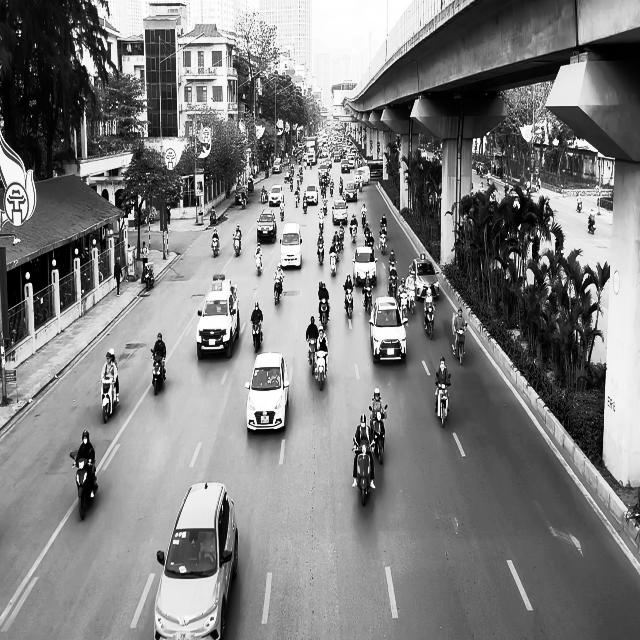car: (154, 480, 238, 640), (245, 351, 290, 432), (196, 288, 240, 360), (369, 295, 408, 363), (408, 253, 440, 300), (352, 245, 377, 287), (280, 222, 302, 268), (256, 210, 276, 243), (332, 199, 348, 225), (268, 184, 284, 207), (305, 184, 318, 204)
motorbike: (69, 451, 98, 521), (352, 440, 375, 506), (369, 404, 387, 465), (101, 372, 119, 423), (434, 375, 450, 427), (150, 349, 166, 395), (453, 322, 467, 364), (314, 349, 328, 391), (251, 318, 263, 352), (307, 337, 317, 375), (424, 306, 435, 339), (343, 285, 353, 318), (319, 298, 329, 329), (144, 262, 154, 289), (362, 284, 372, 311), (274, 278, 282, 304), (378, 230, 387, 253), (317, 237, 324, 266), (232, 234, 241, 256), (211, 237, 220, 257), (255, 252, 262, 276), (350, 224, 357, 242), (588, 218, 595, 234), (280, 201, 284, 221)
